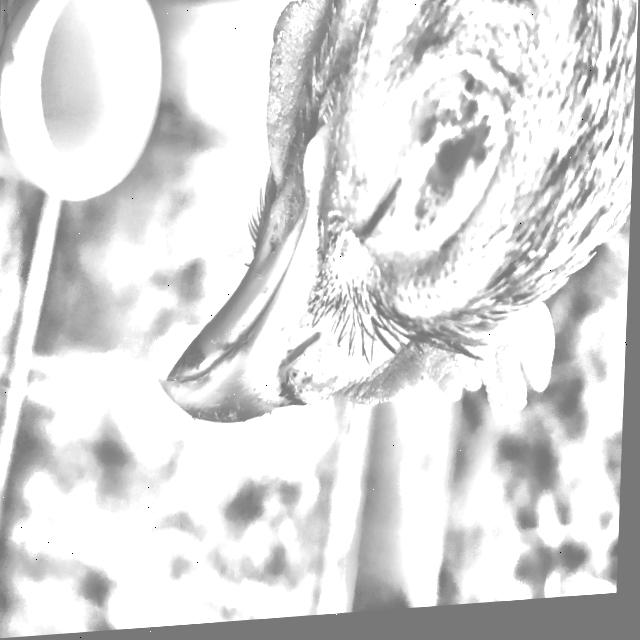Coryza: (117, 0, 640, 447)
